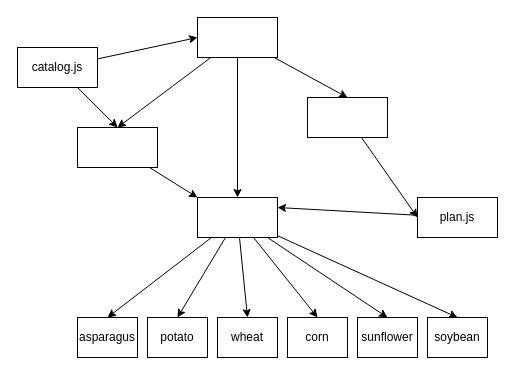
Some shapes in this 515 by 375 pixel diagram are drawn without their labels. Each missing label, with the box of its shape:
field.js: (196, 196, 278, 238)
harvester.js: (76, 126, 158, 168)
main.js: (196, 16, 278, 58)
tractor.js: (306, 96, 388, 138)
